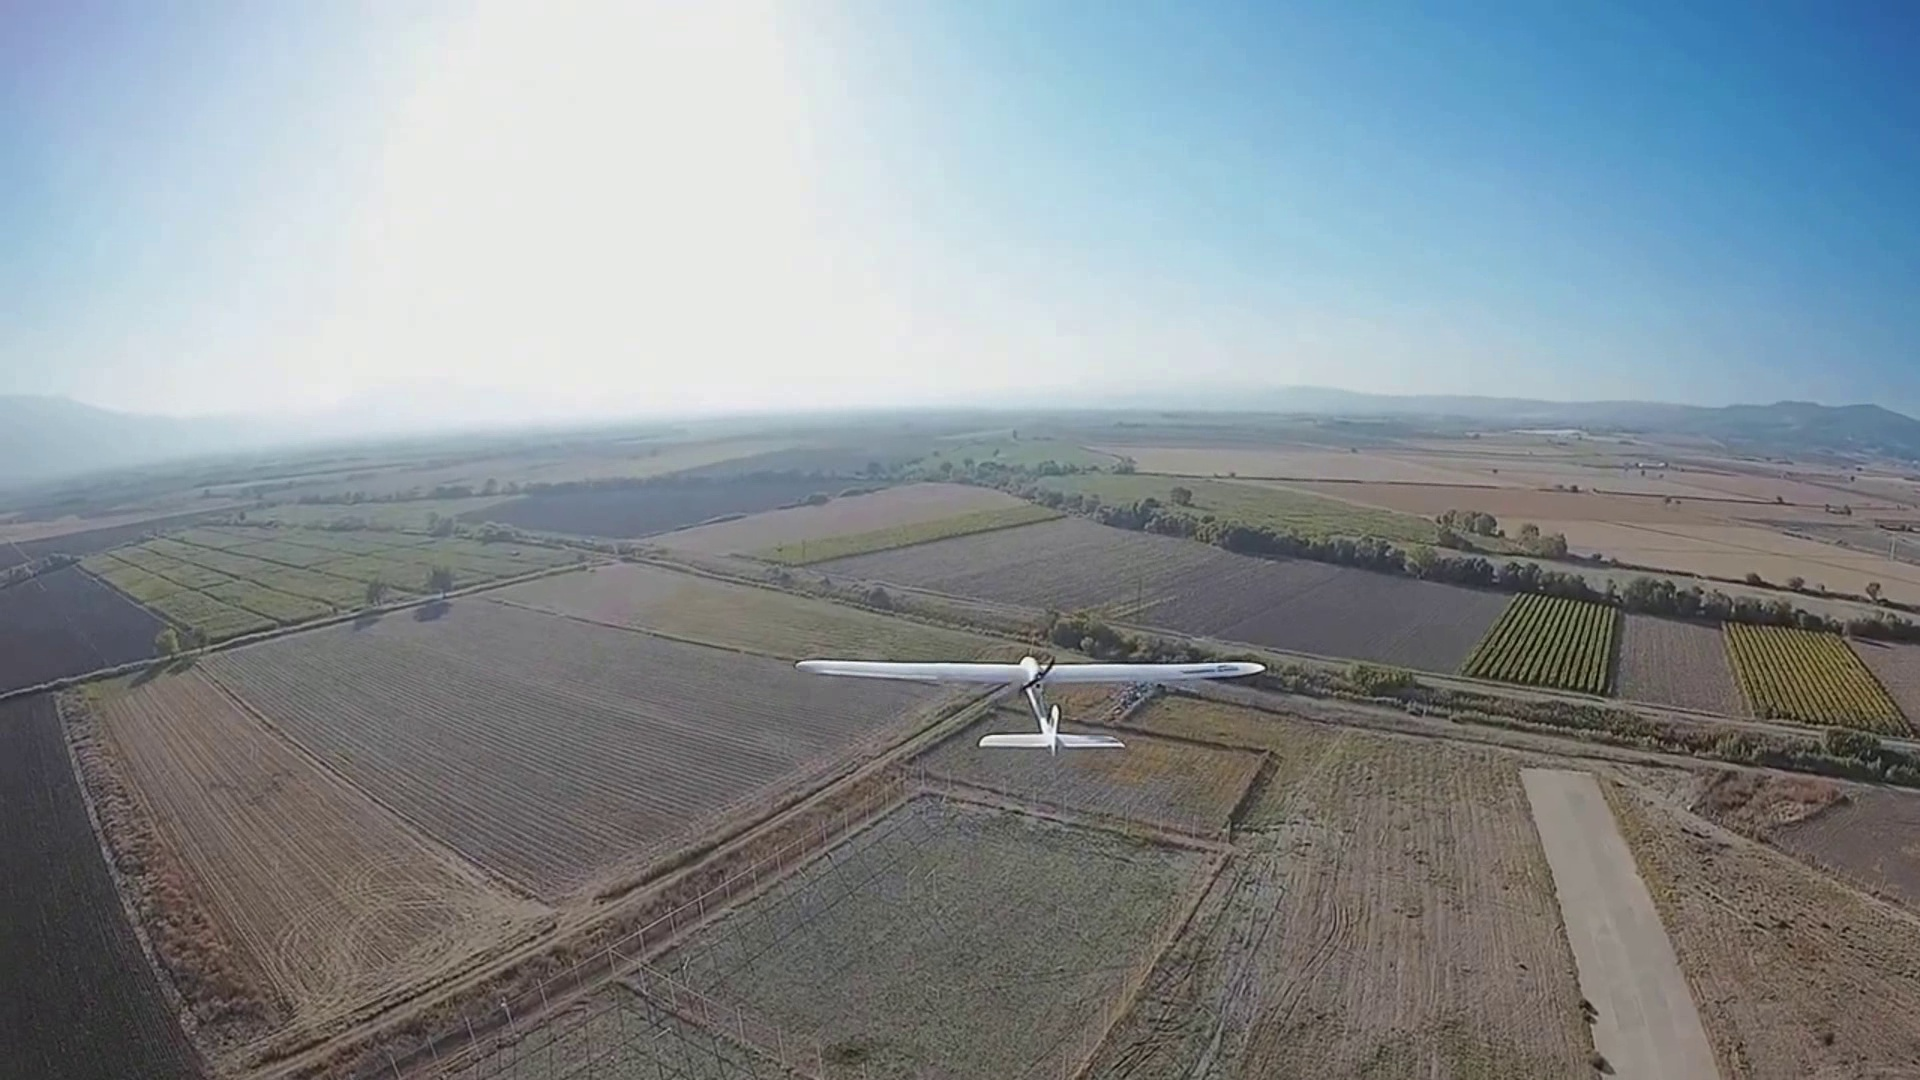airplane: (796, 644, 1269, 753)
